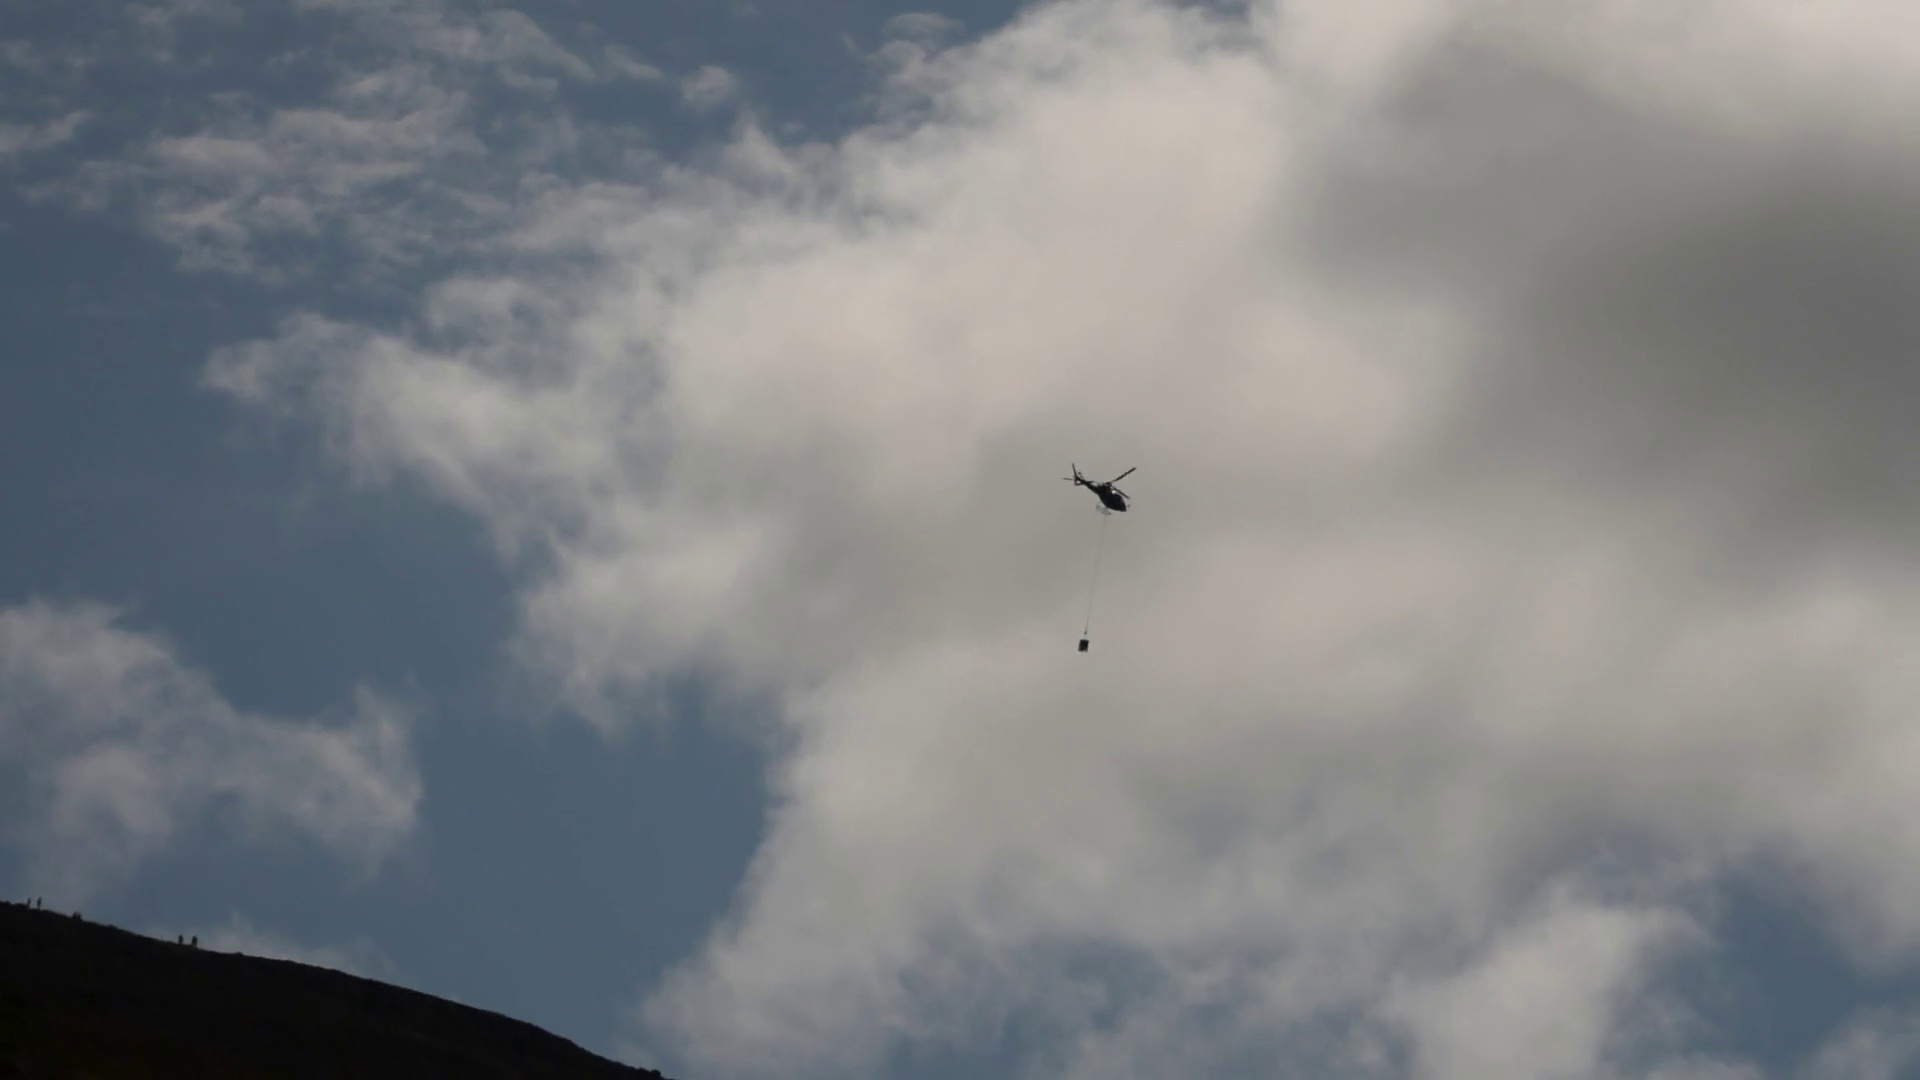heli: (1064, 464, 1138, 518)
